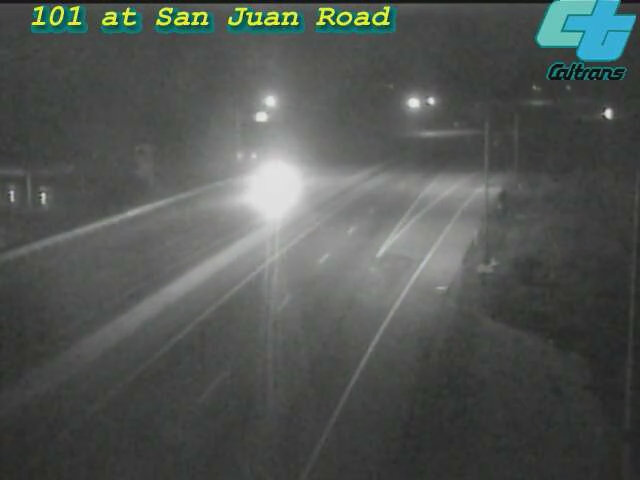vehicle: (229, 147, 309, 227), (584, 89, 634, 139)
